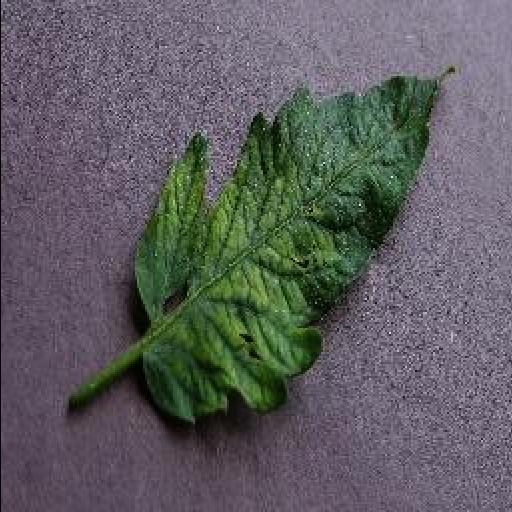disease_tomato: (130, 75, 438, 425)
